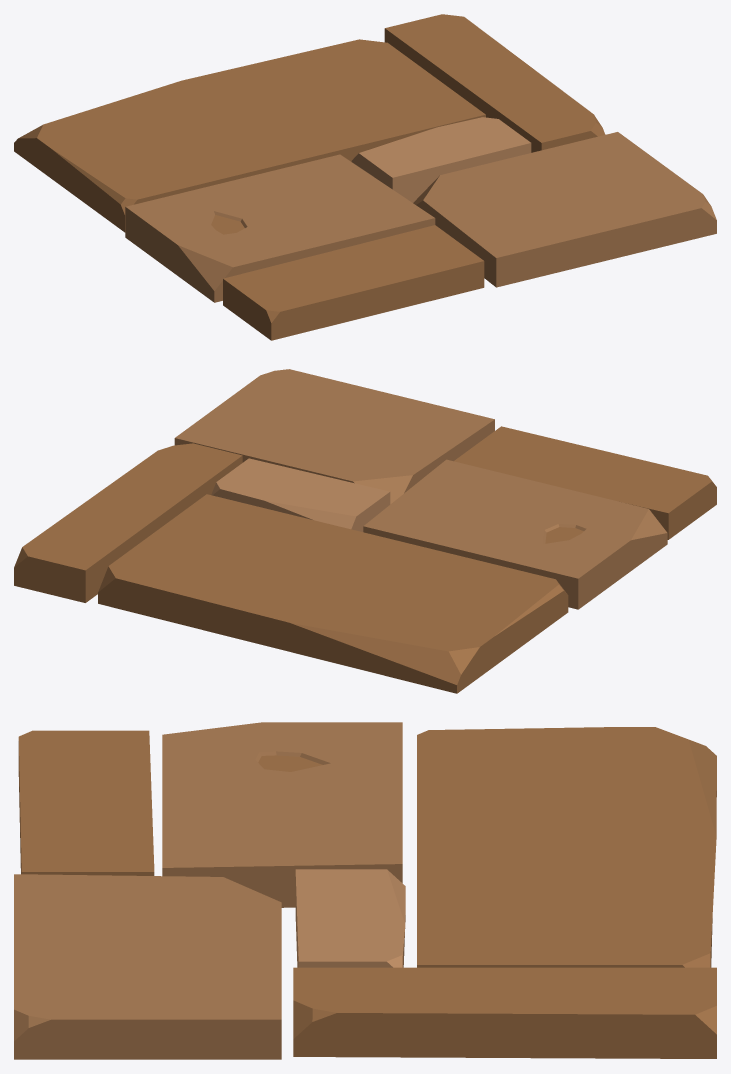
File: Tile_03.fbx
3 renders of one model, top to bottom at view 1: azimuth 30°, elevation 25°; view 2: azimuth 150°, elevation 25°; view 3: azimuth 270°, elevation 25°, orthographic. The views are drawn at different scales.
Visible parts, largest first — view 1: Tile_03; view 2: Tile_03; view 3: Tile_03.
Part boxes in pixels (<box>): Tile_03: <box>14,14,716,340</box>; Tile_03: <box>14,369,716,693</box>; Tile_03: <box>14,722,716,1059</box>.
Bounding box in the file's own units: 95.38 × 6.79 × 95.98.
